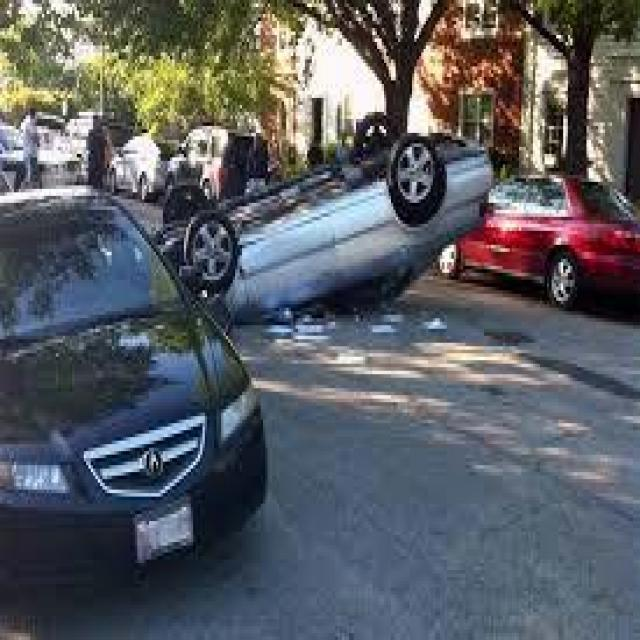severe: (149, 106, 496, 334)
